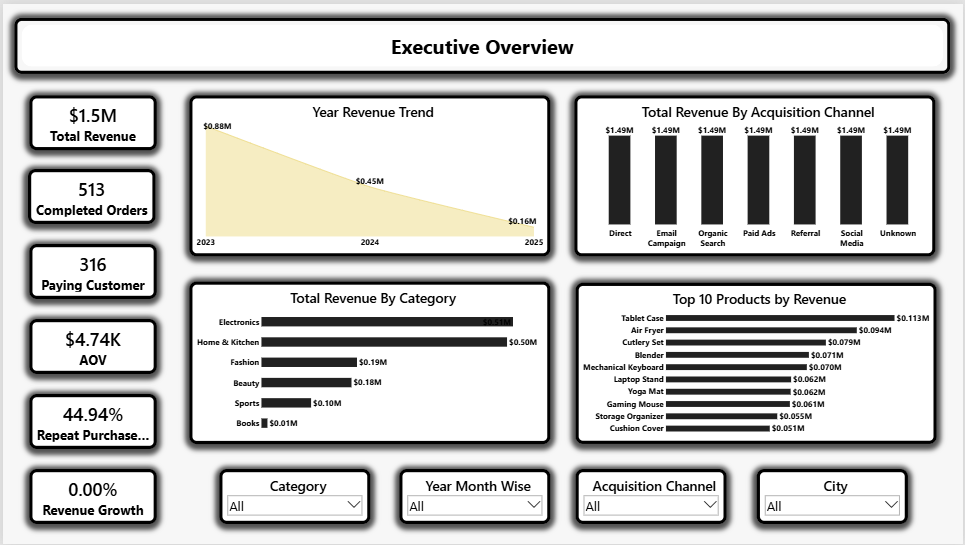

The page's visual inventory and layout, read from the dashboard file:
{"tool":"powerbi","page":{"name":"Executive  Overview","canvas":[3840,2160],"ordinal":0},"visuals":[{"type":"textbox","box":[10,0,280,280],"z":0},{"type":"textbox","box":[105,622.5,510,225],"z":1000},{"type":"shape","box":[45,55,3745,225],"z":2000},{"type":"card","fields":{"Values":["Measure.Completed Orders"]},"box":[100,660,510,220],"z":3000},{"type":"card","fields":{"Values":["Measure.Paying Customer"]},"box":[105,960,510,220],"z":4000},{"type":"card","fields":{"Values":["Measure.AOV"]},"box":[105,1260,510,220],"z":5000},{"type":"card","fields":{"Values":["Measure.Repeat Purchase Rate"]},"box":[105,1560,510,220],"z":6000},{"type":"card","fields":{"Values":["Measure.Revenue Growth"]},"box":[105,1860,510,220],"z":7000},{"type":"areaChart","title":"Year Revenue Trend","fields":{"Category":["Calendar.Year"],"Y":["Measure.Total Revenue"]},"box":[745,365,1445,645],"z":8000},{"type":"barChart","title":"Top 10 Products by Revenue","fields":{"Category":["products.product_name"],"Y":["Measure.Total Revenue"]},"box":[2290,1115,1445,645],"z":9000},{"type":"barChart","title":"Total Revenue By Category","fields":{"Category":["products.category"],"Y":["Measure.Total Revenue"]},"box":[745,1110,1445,650],"z":10000},{"type":"clusteredColumnChart","title":"Total Revenue By Acquisition Channel","fields":{"Category":["users.acquisition_channel"],"Y":["Measure.Total Revenue"]},"box":[2285,365,1445,645],"z":11000},{"type":"card","fields":{"Values":["Measure.Total Revenue"]},"box":[105,365,510,220],"z":12000},{"type":"slicer","title":"Year Month Wise","fields":{"Values":["Calendar.Year Month"]},"box":[1585,1860,605,220],"z":13000},{"type":"slicer","title":"City","fields":{"Values":["users.city"]},"box":[3015,1860,605,220],"z":14000},{"type":"slicer","title":"Category","fields":{"Values":["products.category"]},"box":[865,1860,605,220],"z":15000},{"type":"slicer","title":"Acquisition Channel","fields":{"Values":["users.acquisition_channel"]},"box":[2290,1860,605,220],"z":16000}]}

Visuals, with their boxes in screenshot pixels (x1, y1, x2, y2), scaled from the page's 3840x2160 canvas onto the 965x545 screenshot:
textbox: {"left": 3, "top": 0, "right": 73, "bottom": 71}
textbox: {"left": 26, "top": 157, "right": 155, "bottom": 214}
shape: {"left": 11, "top": 14, "right": 952, "bottom": 71}
card - Measure.Completed Orders: {"left": 25, "top": 167, "right": 153, "bottom": 222}
card - Measure.Paying Customer: {"left": 26, "top": 242, "right": 155, "bottom": 298}
card - Measure.AOV: {"left": 26, "top": 318, "right": 155, "bottom": 373}
card - Measure.Repeat Purchase Rate: {"left": 26, "top": 394, "right": 155, "bottom": 449}
card - Measure.Revenue Growth: {"left": 26, "top": 469, "right": 155, "bottom": 525}
"Year Revenue Trend" areaChart: {"left": 187, "top": 92, "right": 550, "bottom": 255}
"Top 10 Products by Revenue" barChart: {"left": 575, "top": 281, "right": 939, "bottom": 444}
"Total Revenue By Category" barChart: {"left": 187, "top": 280, "right": 550, "bottom": 444}
"Total Revenue By Acquisition Channel" clusteredColumnChart: {"left": 574, "top": 92, "right": 937, "bottom": 255}
card - Measure.Total Revenue: {"left": 26, "top": 92, "right": 155, "bottom": 148}
"Year Month Wise" slicer: {"left": 398, "top": 469, "right": 550, "bottom": 525}
"City" slicer: {"left": 758, "top": 469, "right": 910, "bottom": 525}
"Category" slicer: {"left": 217, "top": 469, "right": 369, "bottom": 525}
"Acquisition Channel" slicer: {"left": 575, "top": 469, "right": 728, "bottom": 525}
